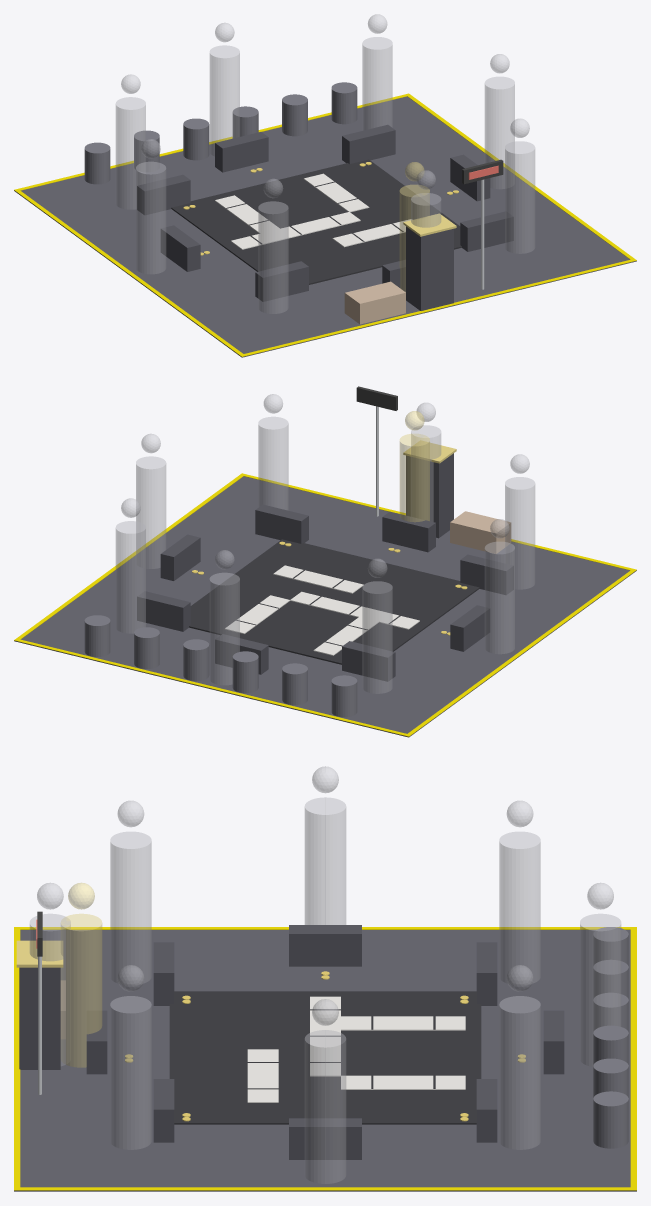
The model's file is G01_THE_LOCK.glb.
3 views of the same model, one above another, from view 1: azimuth 30°, elevation 25°; view 2: azimuth 150°, elevation 25°; view 3: azimuth 270°, elevation 25° (orthographic). The views are drawn at different scales.
Visible parts, largest first — view 1: floor_area, eva_play_zone, operator_lectern, player_1_body, player_6_body, player_7_body, player_5_body, player_2_body, player_4_body, player_3_body, boneyard_box, player_rack_4 (+26 smaller); view 2: floor_area, eva_play_zone, player_5_body, player_6_body, player_3_body, player_2_body, player_4_body, player_7_body, operator_lectern, player_1_body, operator_body, player_0_body (+26 smaller); view 3: floor_area, eva_play_zone, player_2_body, player_1_body, player_3_body, player_5_body, player_7_body, operator_body, player_6_body, player_4_body, operator_lectern, player_rack_2 (+28 smaller).
Boxes of the visible parts, x1=… form: floor_area: x1=14, y1=96, x2=636, y2=357; eva_play_zone: x1=171, y1=159, x2=461, y2=284; operator_lectern: x1=406, y1=226, x2=453, y2=310; player_1_body: x1=505, y1=141, x2=535, y2=253; player_6_body: x1=136, y1=161, x2=166, y2=274; player_7_body: x1=258, y1=201, x2=288, y2=313; player_5_body: x1=115, y1=97, x2=145, y2=209; player_2_body: x1=484, y1=76, x2=514, y2=189; player_4_body: x1=209, y1=45, x2=239, y2=156; player_3_body: x1=362, y1=37, x2=392, y2=130; boneyard_box: x1=344, y1=281, x2=405, y2=324; player_rack_4: x1=215, y1=132, x2=268, y2=172; floor_area: x1=14, y1=476, x2=636, y2=737; eva_play_zone: x1=189, y1=539, x2=479, y2=664; player_5_body: x1=362, y1=581, x2=392, y2=693; player_6_body: x1=484, y1=541, x2=514, y2=654; player_3_body: x1=115, y1=521, x2=145, y2=633; player_2_body: x1=136, y1=456, x2=166, y2=568; player_4_body: x1=209, y1=572, x2=239, y2=685; player_7_body: x1=505, y1=477, x2=535, y2=589; operator_lectern: x1=406, y1=453, x2=453, y2=538; player_1_body: x1=258, y1=416, x2=288, y2=510; operator_body: x1=399, y1=433, x2=429, y2=522; player_0_body: x1=411, y1=425, x2=441, y2=521; floor_area: x1=14, y1=930, x2=636, y2=1191; eva_play_zone: x1=169, y1=991, x2=481, y2=1124; player_2_body: x1=304, y1=1030, x2=346, y2=1183; player_1_body: x1=110, y1=996, x2=151, y2=1149; player_3_body: x1=499, y1=996, x2=540, y2=1149; player_5_body: x1=499, y1=831, x2=540, y2=984; player_7_body: x1=110, y1=831, x2=151, y2=984; operator_body: x1=61, y1=913, x2=102, y2=1067; player_6_body: x1=304, y1=797, x2=346, y2=924; player_4_body: x1=580, y1=913, x2=621, y2=1066; operator_lectern: x1=19, y1=967, x2=60, y2=1069; player_rack_2: x1=289, y1=1118, x2=361, y2=1159.
Size of the model in its own units: 6 by 1.87 by 6.
